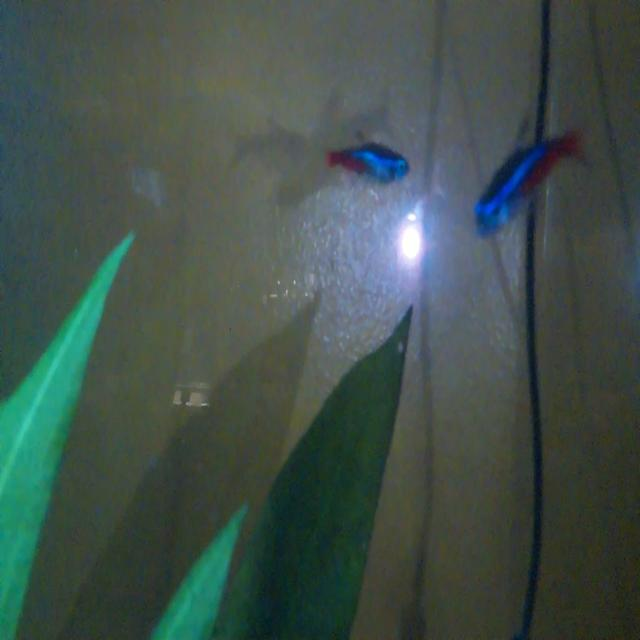fish: (462, 98, 596, 246), (324, 124, 413, 196)
